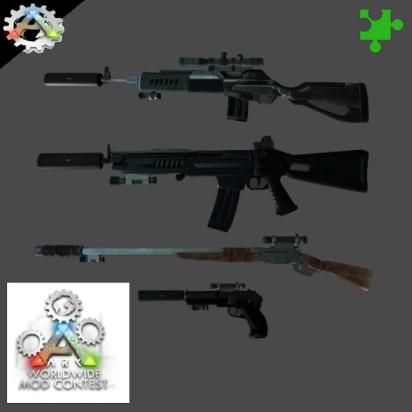Gun: (34, 135, 372, 232), (43, 47, 370, 128), (136, 277, 270, 347)
